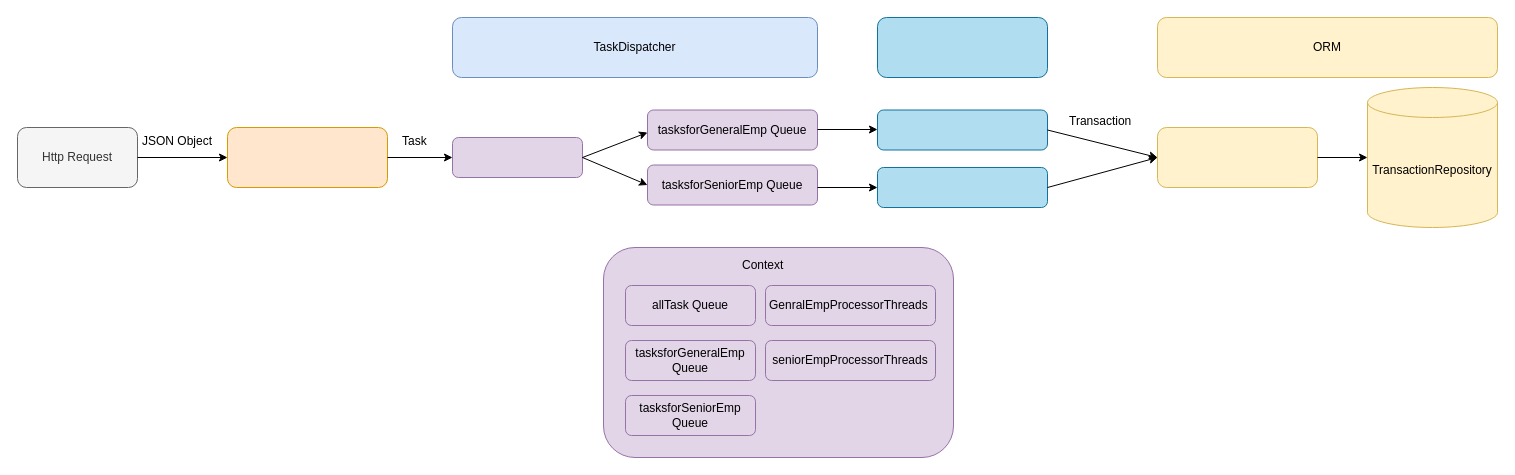
This 1515x475 diagram has some shape labels left out. The centre of each missing label's shape, as x and y in pixels:
allTasks Queue: the point at 517,157
GeneralEmpProcessor processes: the point at 962,129
Processor: the point at 962,47
SeniorEmpProcessor processes: the point at 962,187
TransactionRestController: the point at 307,157
TransactionService: the point at 1237,157
